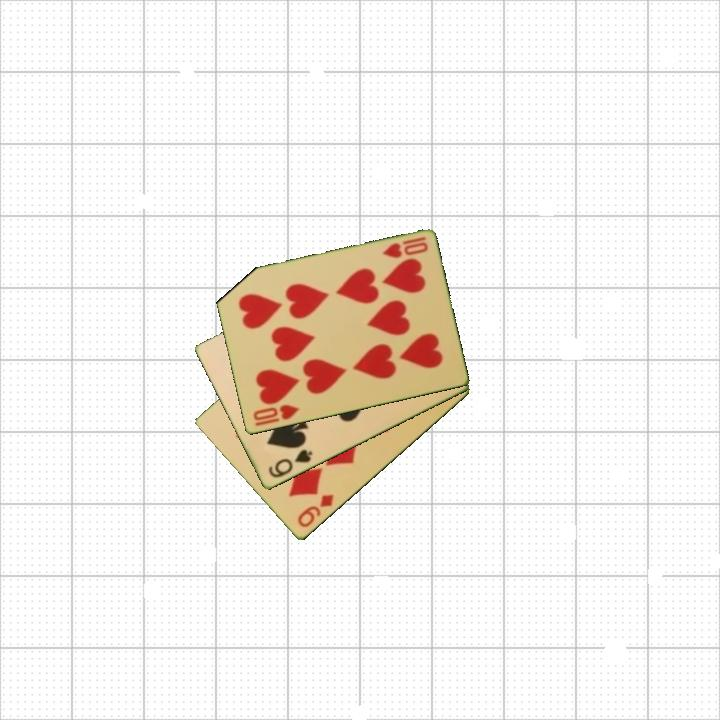10h: (379, 233, 431, 261), (249, 401, 302, 424)
6s: (265, 446, 315, 481)
9d: (294, 491, 337, 531)
